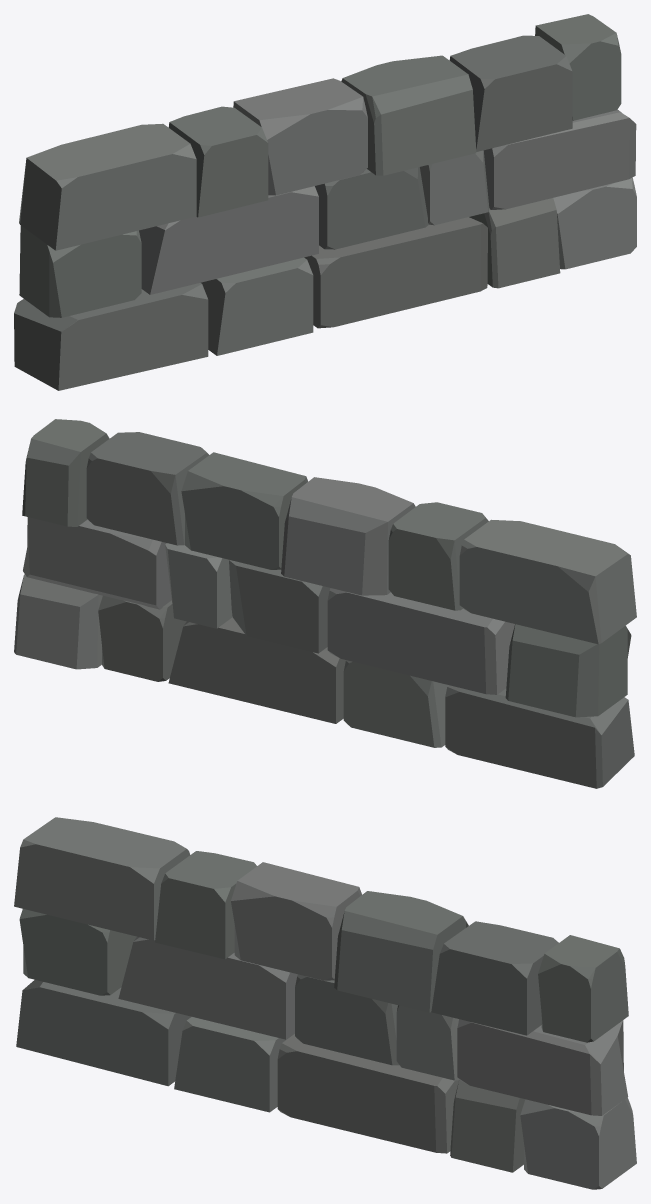
The model's file is Stone_Wall.fbx.
The picture shows the model from 3 angles, top to bottom: view 1: azimuth 30°, elevation 25°; view 2: azimuth 150°, elevation 25°; view 3: azimuth 330°, elevation 25°; orthographic projection.
Parts seen in each view (by area): view 1: Wall; view 2: Wall; view 3: Wall.
Boxes of the visible parts, x1,y1,x2,y2 form: Wall: [14, 14, 636, 390]; Wall: [14, 419, 636, 788]; Wall: [14, 817, 636, 1189].
Size of the model in its own units: 10.84 by 3.82 by 1.5.
